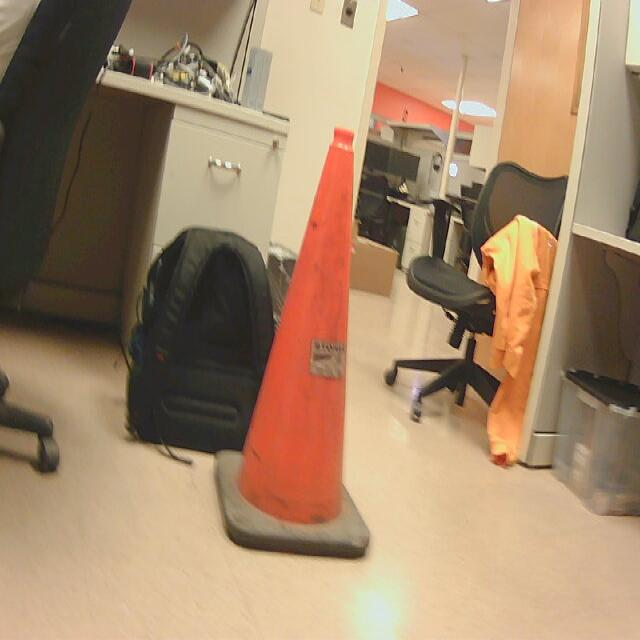traffic cone: (218, 129, 371, 562)
